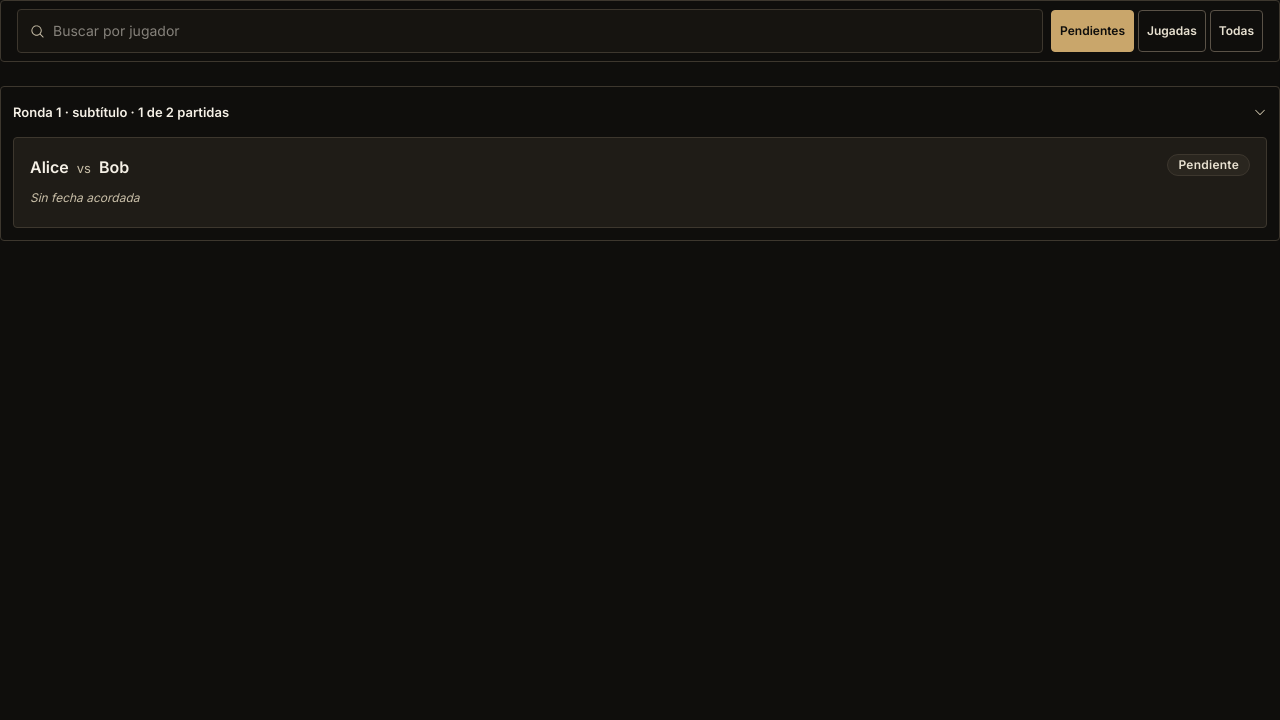
CA-16: Jugadas / Todas, combinadas con el buscador › Jugadas deja sólo las que tienen resultado (incluido Historial); Todas las deja todas
Click the button "Jugadas".
click(1172, 31)  # box [1138,10,1206,52]
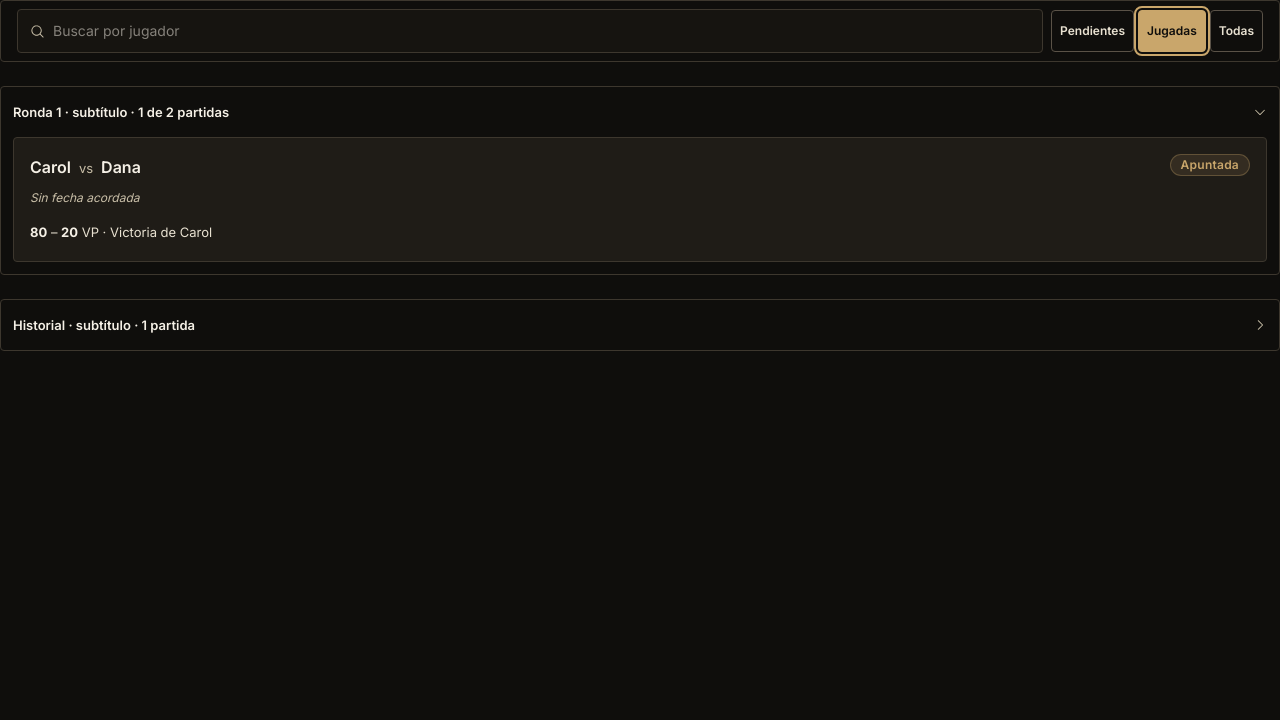
Click the heading "Historial · subtítulo · 1 partida".
click(104, 325)  # box [13,317,1267,333]
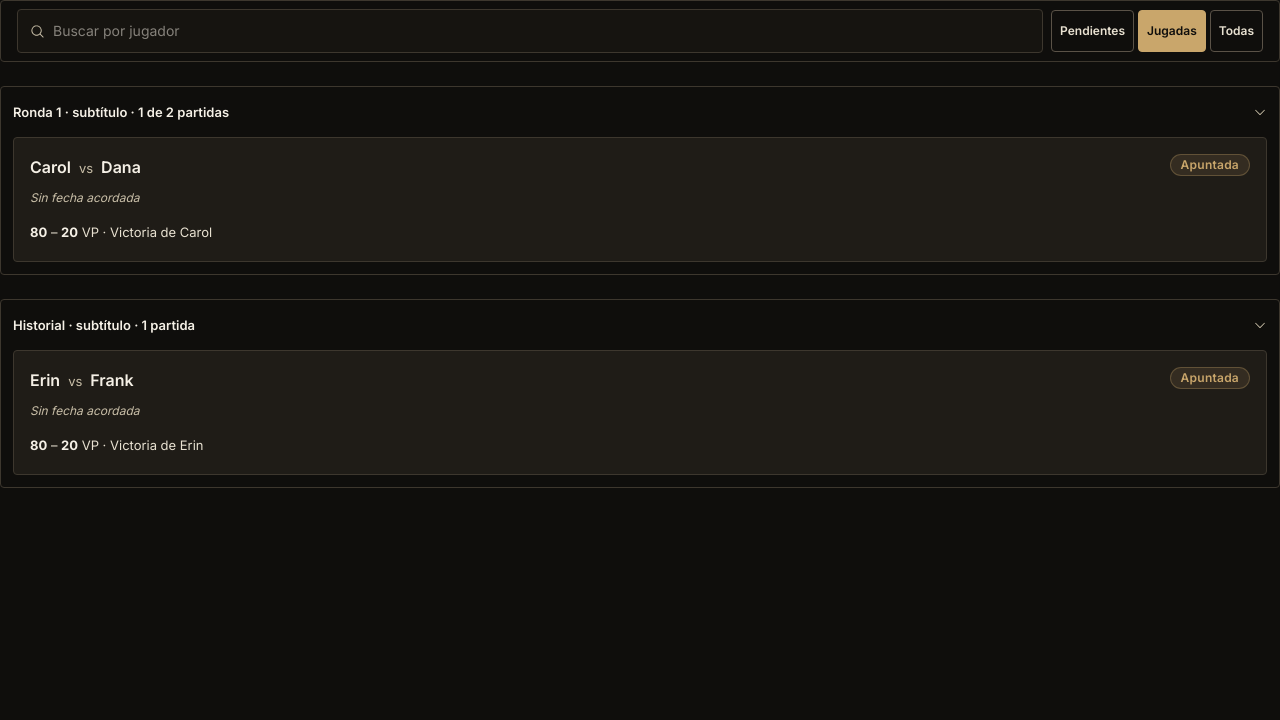
Expected: the text "Alice" is not shown
Expected: the text "Carol" is shown, [30,157,71,177]
Expected: the text "Erin" is shown, [30,370,60,390]
Click the button "Todas".
click(1236, 31)  # box [1210,10,1263,52]
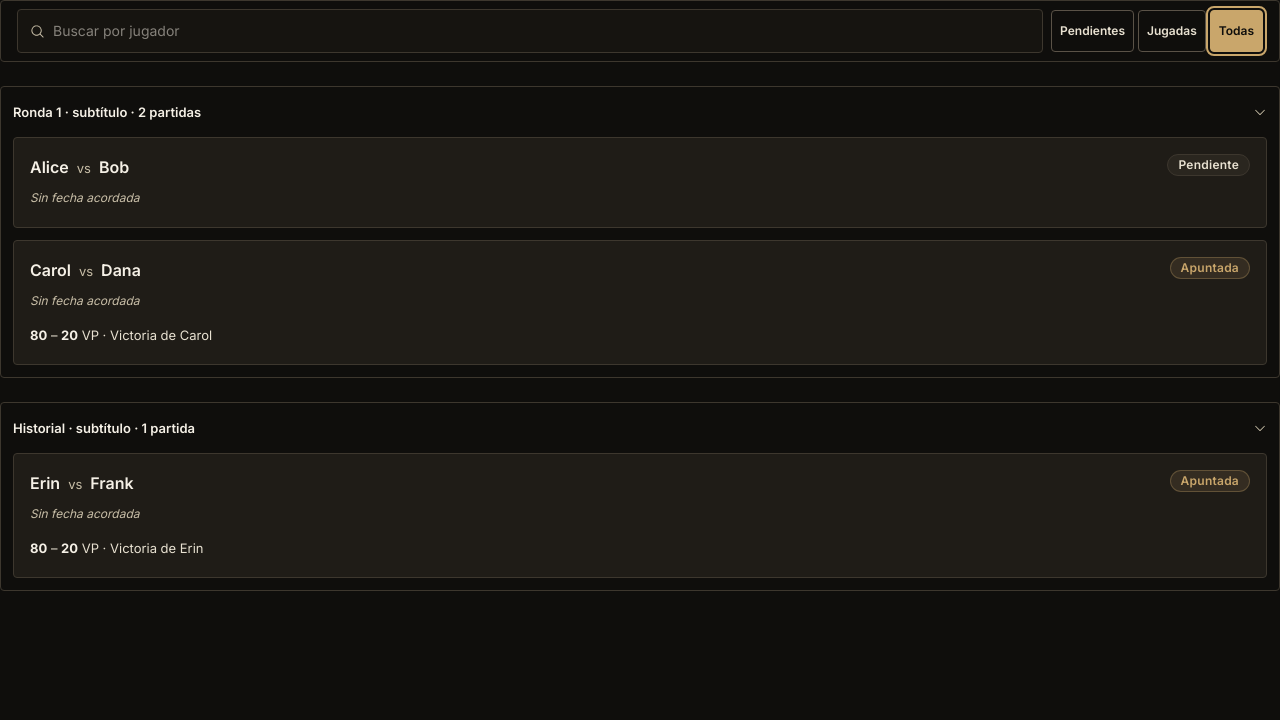
Expected: the text "Carol" is shown, [30,260,71,280]
Expected: the text "Erin" is shown, [30,473,60,493]
Expected: the text "Alice" is shown, [30,157,69,177]
